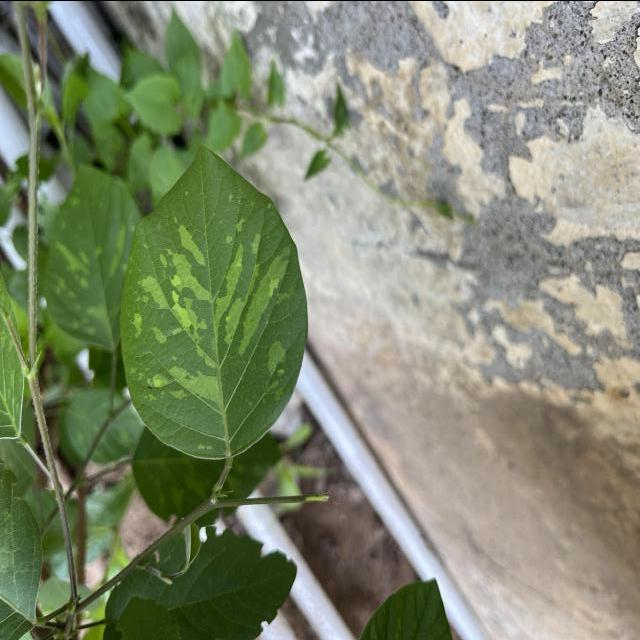Desmodium gangeticum: (115, 140, 312, 463)
